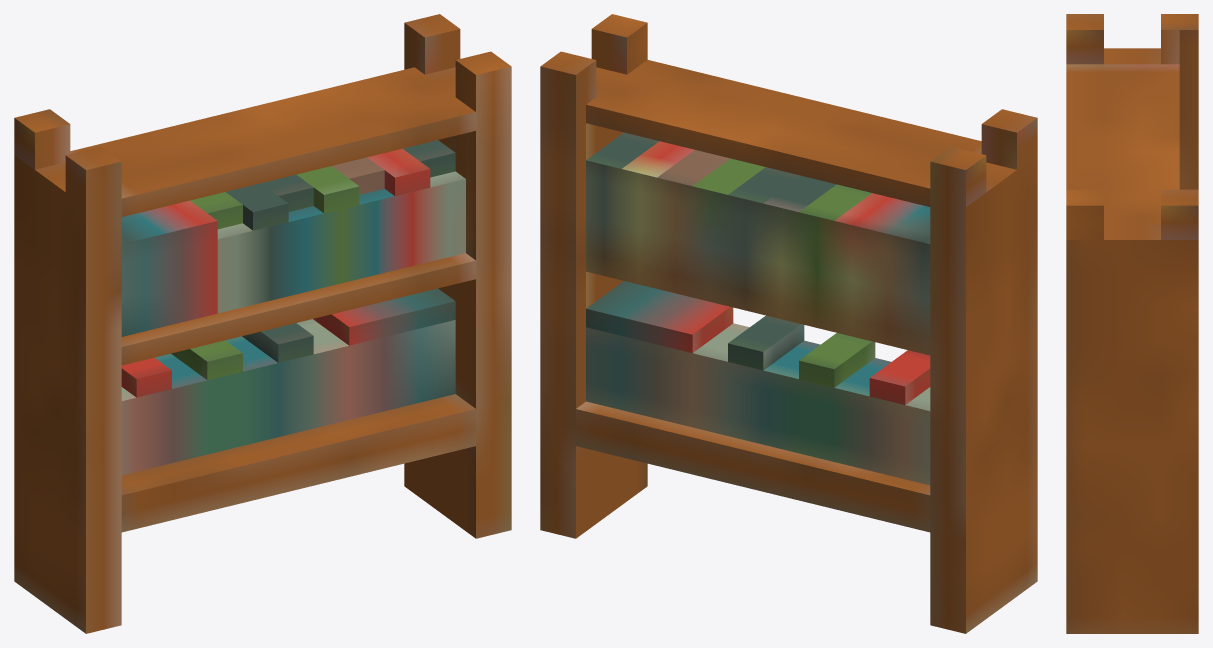
File: BookshelfHShapedDarkBrown_00.fbx
The picture shows the model from 3 angles, left to right: view 1: azimuth 30°, elevation 25°; view 2: azimuth 150°, elevation 25°; view 3: azimuth 270°, elevation 25°; orthographic projection. The views are drawn at different scales.
Parts seen in each view (by area): view 1: BookshelfHShapedDarkBrown_00; view 2: BookshelfHShapedDarkBrown_00; view 3: BookshelfHShapedDarkBrown_00.
Boxes of the visible parts, bbox=[...] form: BookshelfHShapedDarkBrown_00: bbox=[14, 14, 511, 633]; BookshelfHShapedDarkBrown_00: bbox=[540, 14, 1037, 633]; BookshelfHShapedDarkBrown_00: bbox=[1066, 14, 1198, 633].
Bounding box in the file's own units: 120 × 35 × 125.
Materials: 1 (1 with a texture image).
